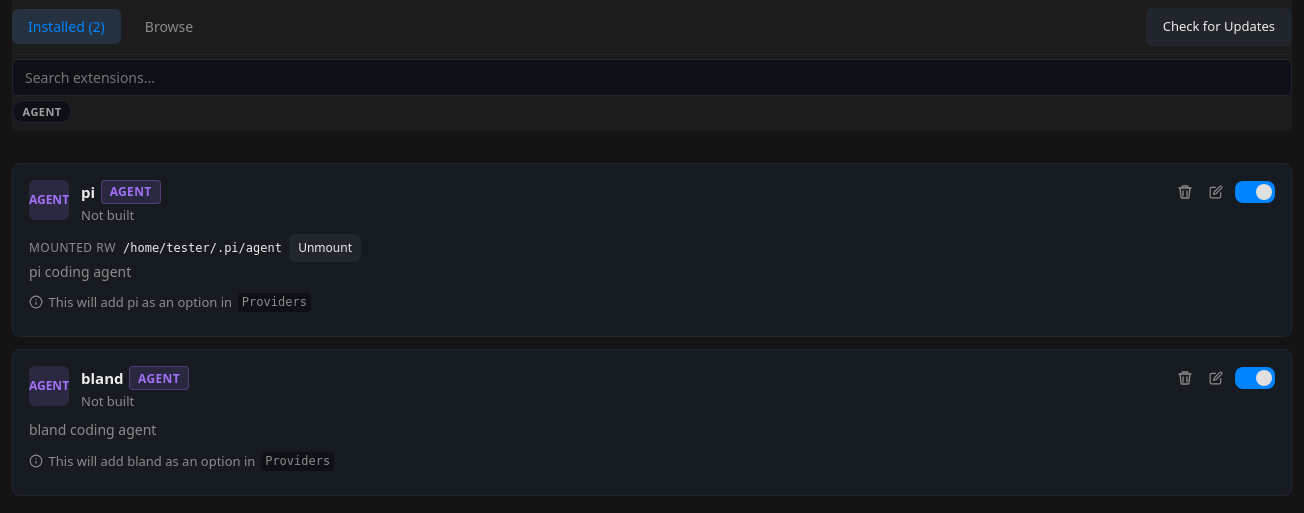
the installed card: who is still without a folder › shows the granted folder with the way to take it back
Expected: the text "pi" is shown, [81, 180, 95, 203]
Expected: the element with class "ext-agent-path" shows "Mounted rw", [29, 238, 116, 256]
Click the button "Unmount": [325, 248] box [289, 234, 361, 262]
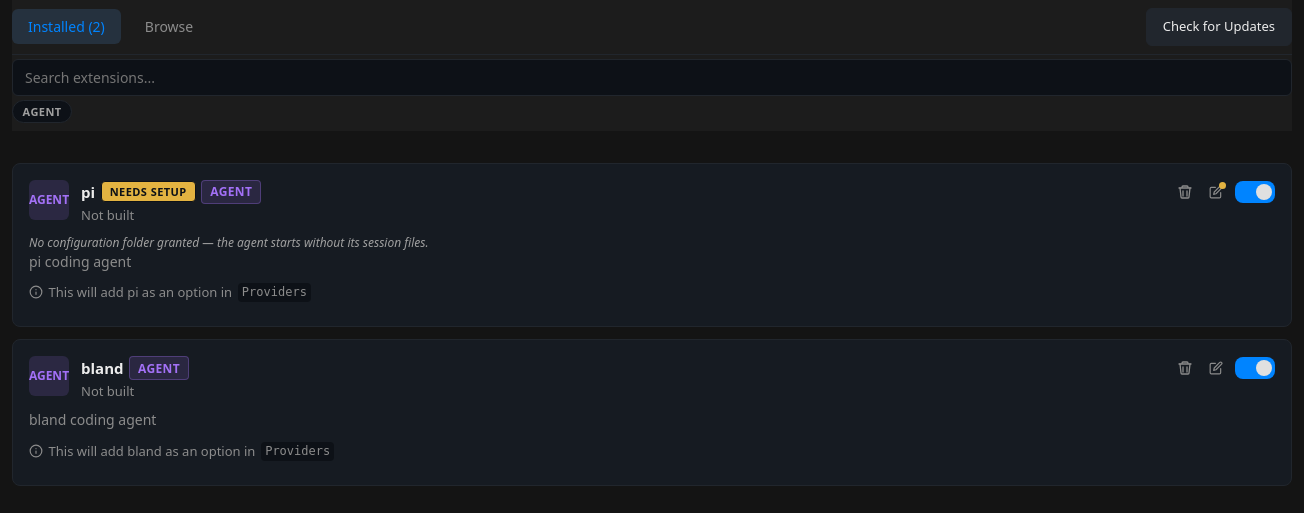
Expected: the button "Needs setup" is shown, [101, 181, 196, 202]
